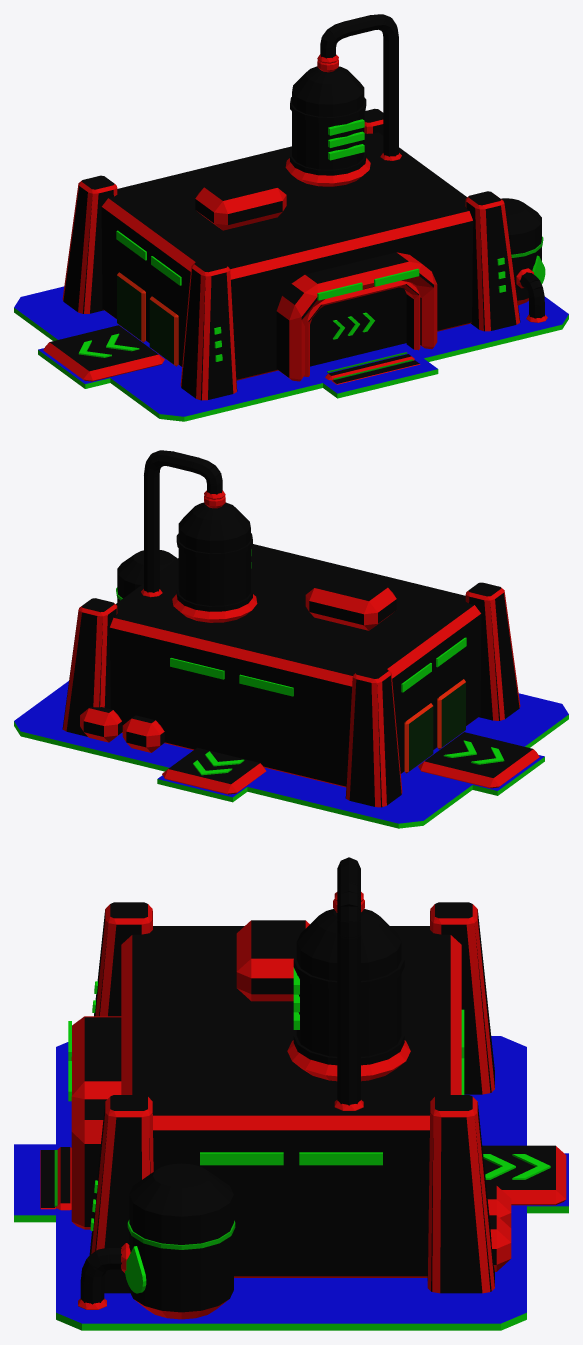
Rendered from SM_Holo_FluidPlant_T1_Mini.fbx.
3 renders of one model, top to bottom at view 1: azimuth 30°, elevation 25°; view 2: azimuth 150°, elevation 25°; view 3: azimuth 270°, elevation 25°, orthographic. The views are drawn at different scales.
Parts seen in each view (by area): view 1: SM_Holo_FluidPlant_T1_Mini; view 2: SM_Holo_FluidPlant_T1_Mini; view 3: SM_Holo_FluidPlant_T1_Mini.
Part boxes in pixels (x1,y1,x2,y2): SM_Holo_FluidPlant_T1_Mini: [14, 14, 568, 421]; SM_Holo_FluidPlant_T1_Mini: [14, 450, 568, 828]; SM_Holo_FluidPlant_T1_Mini: [14, 857, 568, 1330].
Size of the model in its own units: 27.86 by 15.88 by 21.2.
